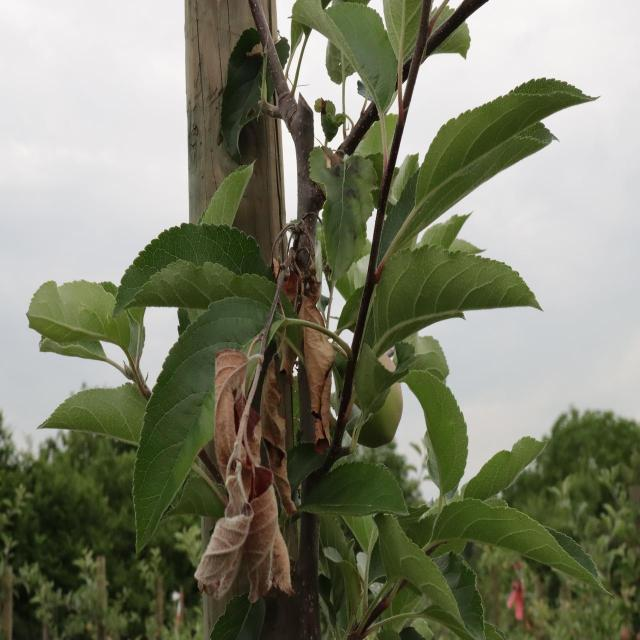-FireBlight-: (198, 338, 290, 604), (266, 226, 348, 458)
